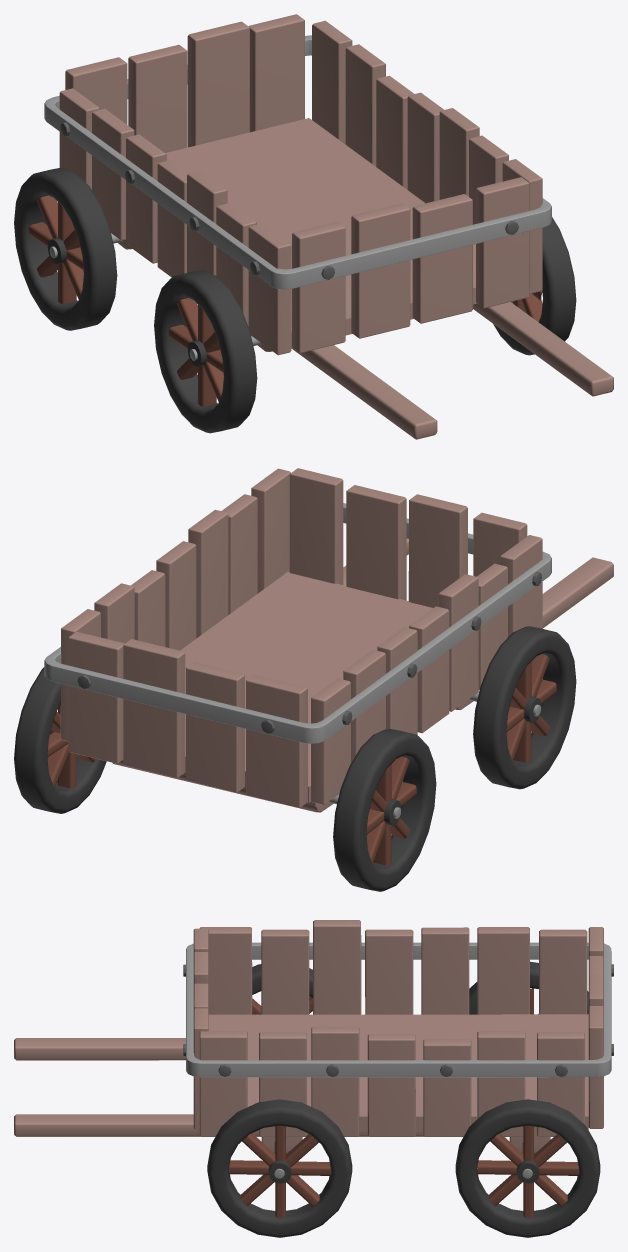
The model's file is Farm_3_Cart_1.glb.
3 views of the same model, one above another, from view 1: azimuth 30°, elevation 25°; view 2: azimuth 150°, elevation 25°; view 3: azimuth 270°, elevation 25° (orthographic). The views are drawn at different scales.
Parts seen in each view (by area): view 1: Farm_3_Cart_1; view 2: Farm_3_Cart_1; view 3: Farm_3_Cart_1.
Boxes of the visible parts, box(x1,y1,x2,y2) form: Farm_3_Cart_1: box(14, 14, 613, 439); Farm_3_Cart_1: box(14, 468, 613, 891); Farm_3_Cart_1: box(14, 920, 613, 1237).
Bounding box in the file's own units: 2.02 × 1.21 × 3.42.
1 material, 1 textured.
